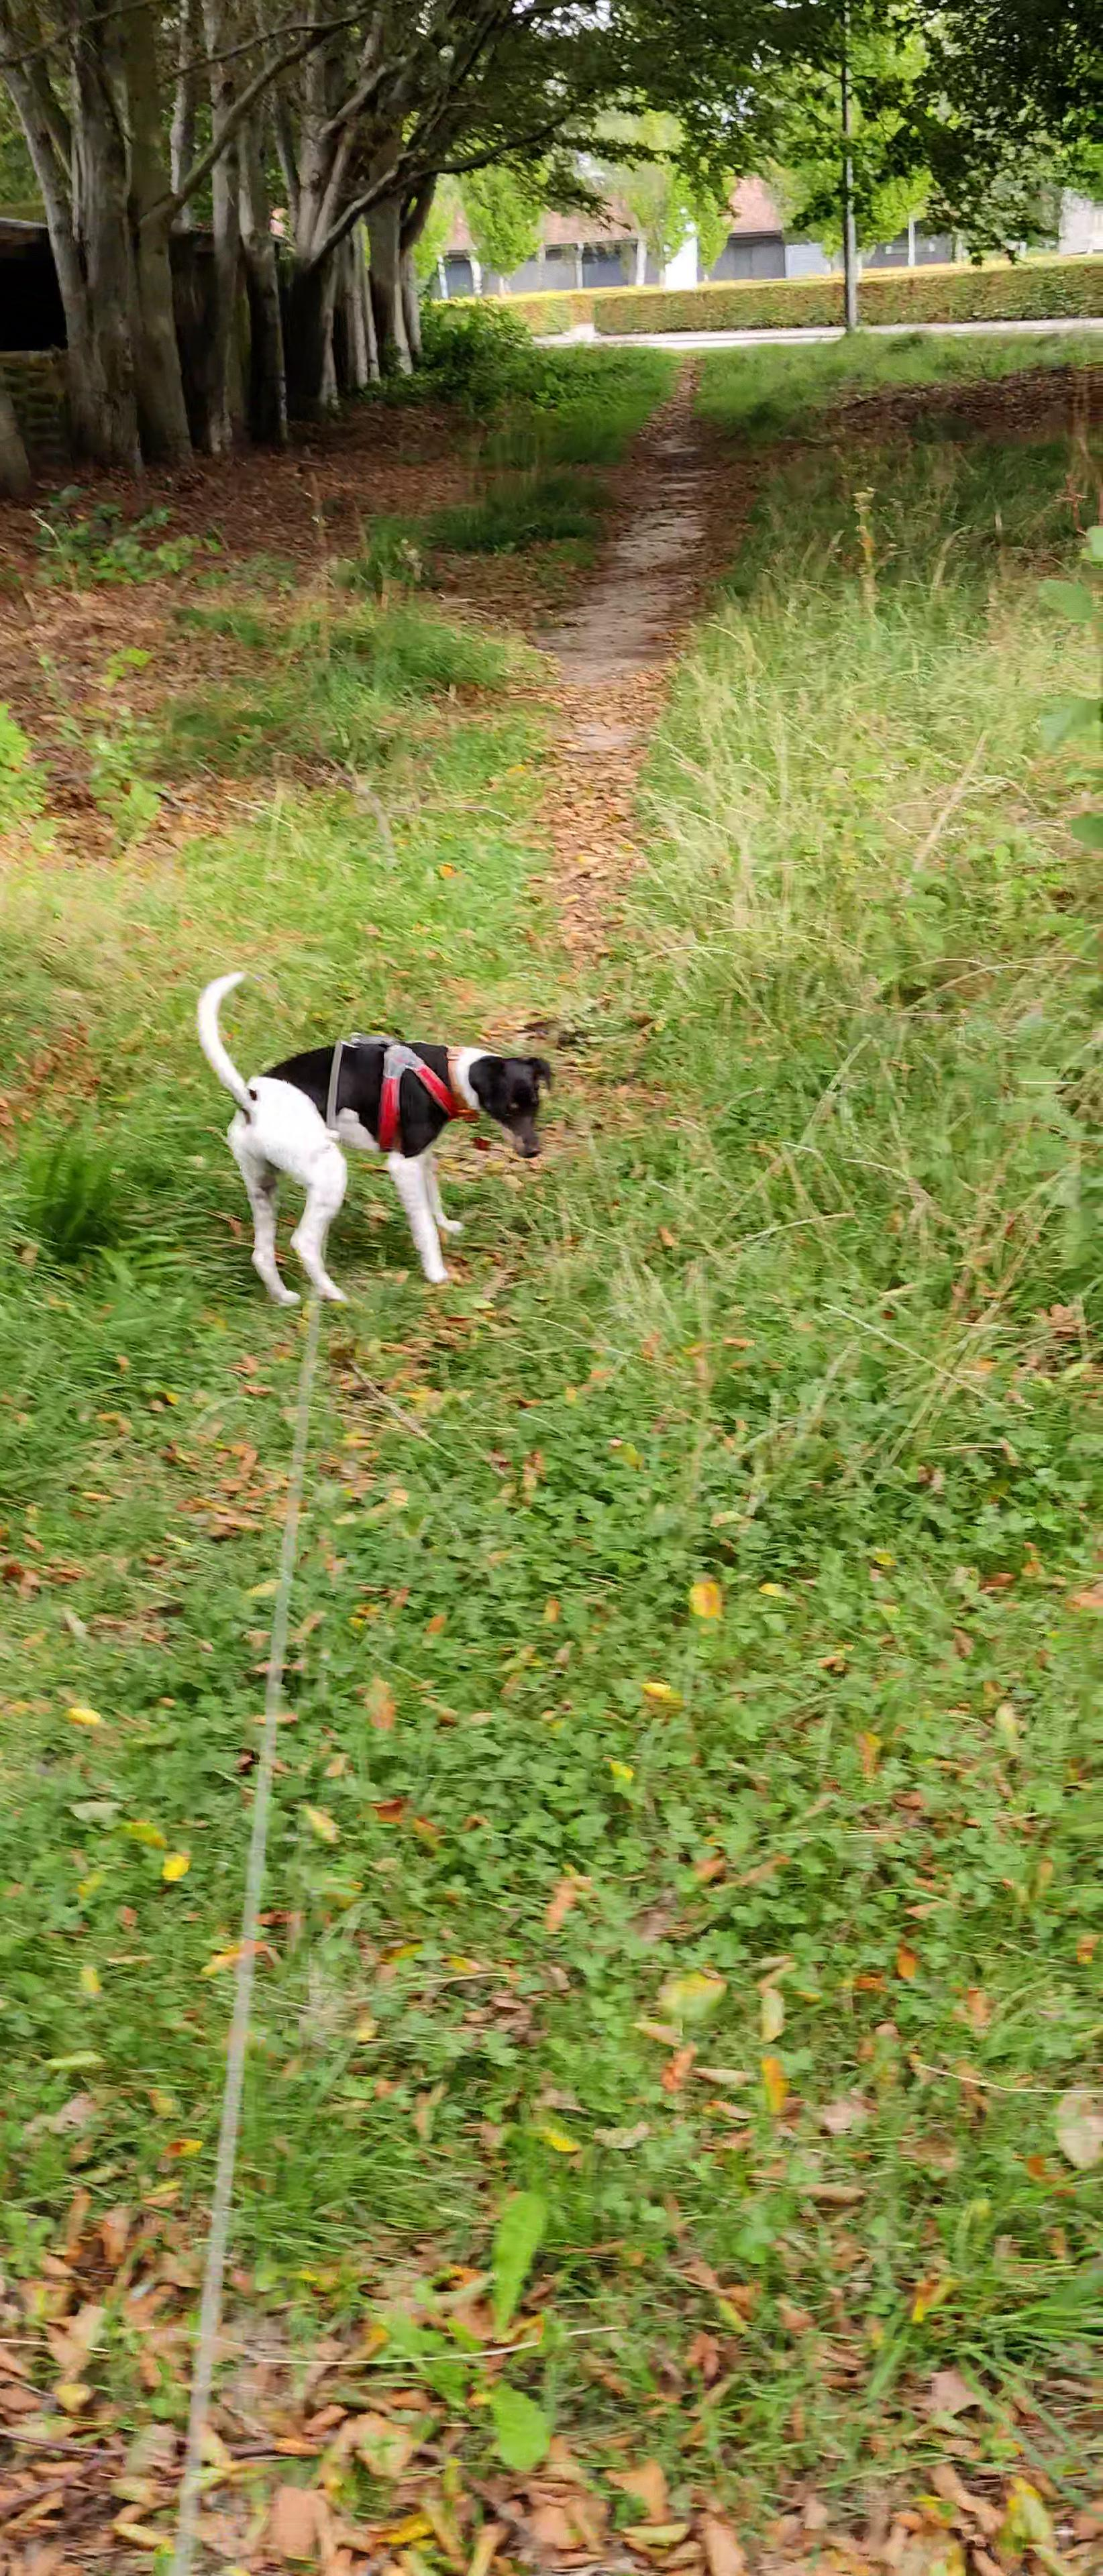Dog: (187, 961, 564, 1313)
